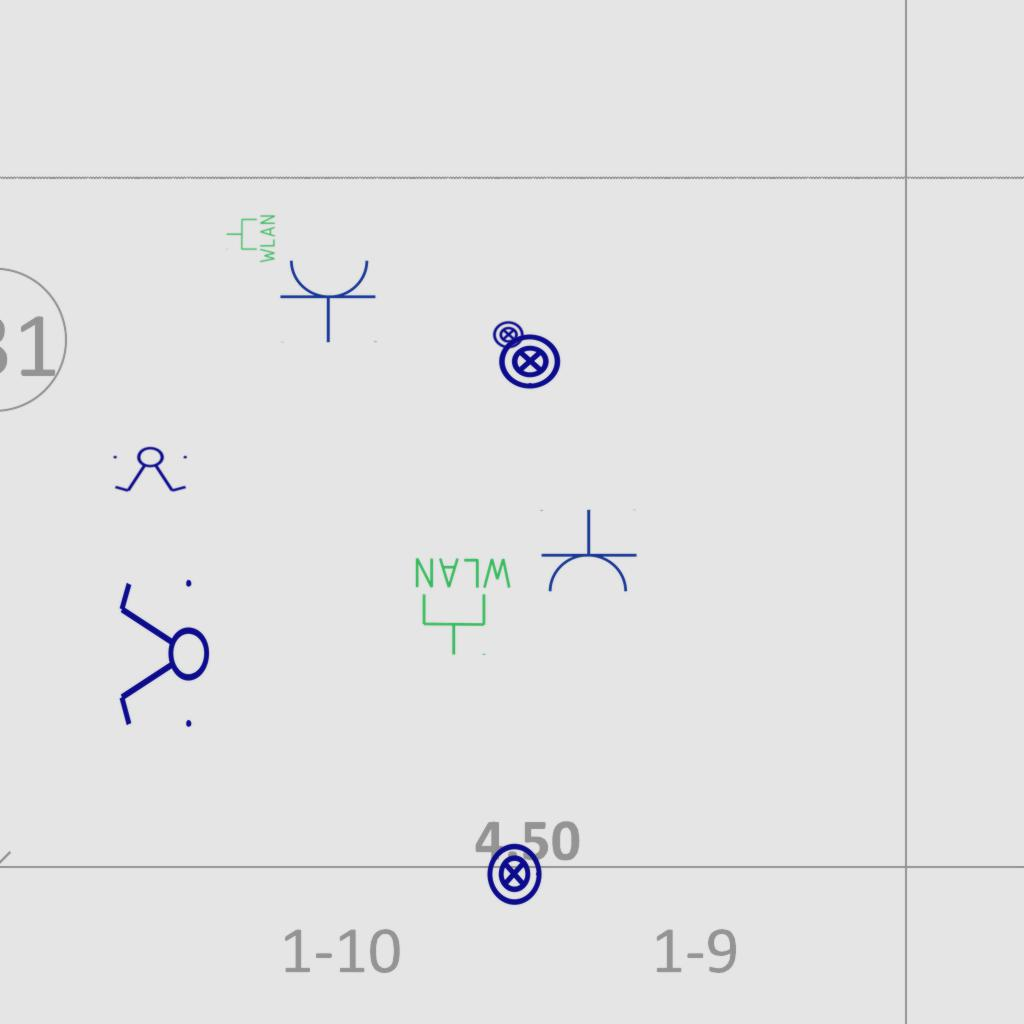Schukosteckdose_einfach: (279, 256, 379, 343), (538, 509, 638, 596)
Serienschalter: (115, 571, 211, 739), (109, 446, 193, 494)
Taster_beleuchtet: (481, 841, 547, 907), (497, 328, 563, 394), (492, 318, 525, 351)
WLAN: (411, 554, 516, 658), (225, 213, 277, 265)
